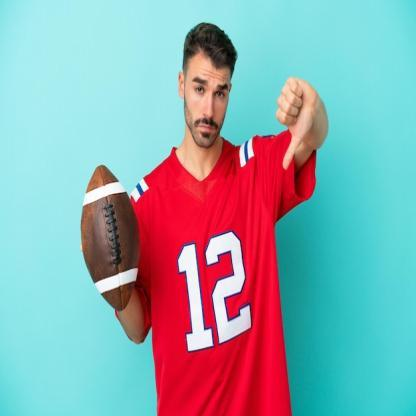thumb_down: (274, 74, 316, 172)
